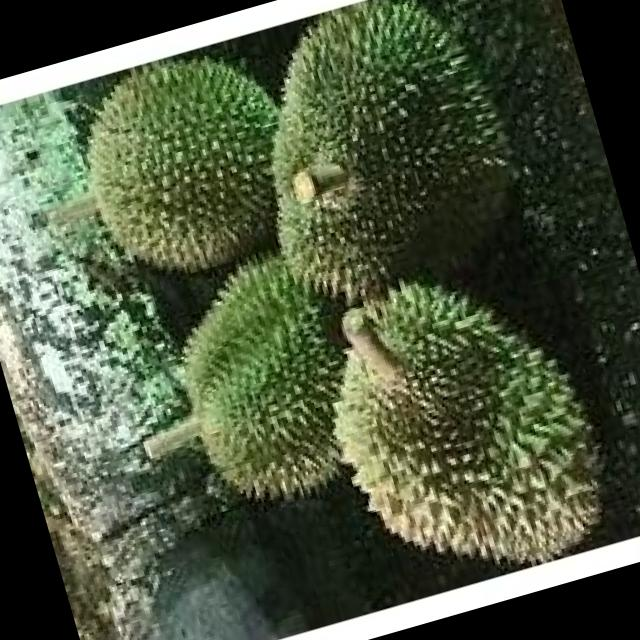fruit: (261, 196, 640, 620), (210, 0, 635, 354), (130, 242, 417, 546), (44, 29, 328, 323)
